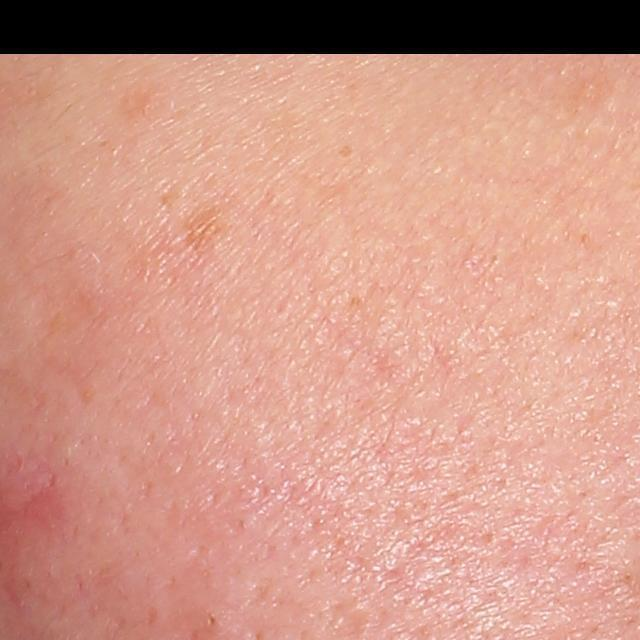melasma: (554, 71, 611, 116), (118, 83, 170, 128), (185, 212, 229, 260)
